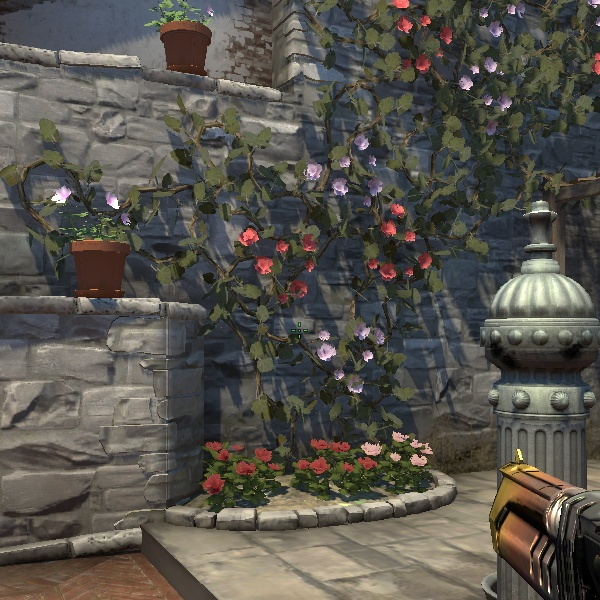t_head: (464, 450, 592, 574)
